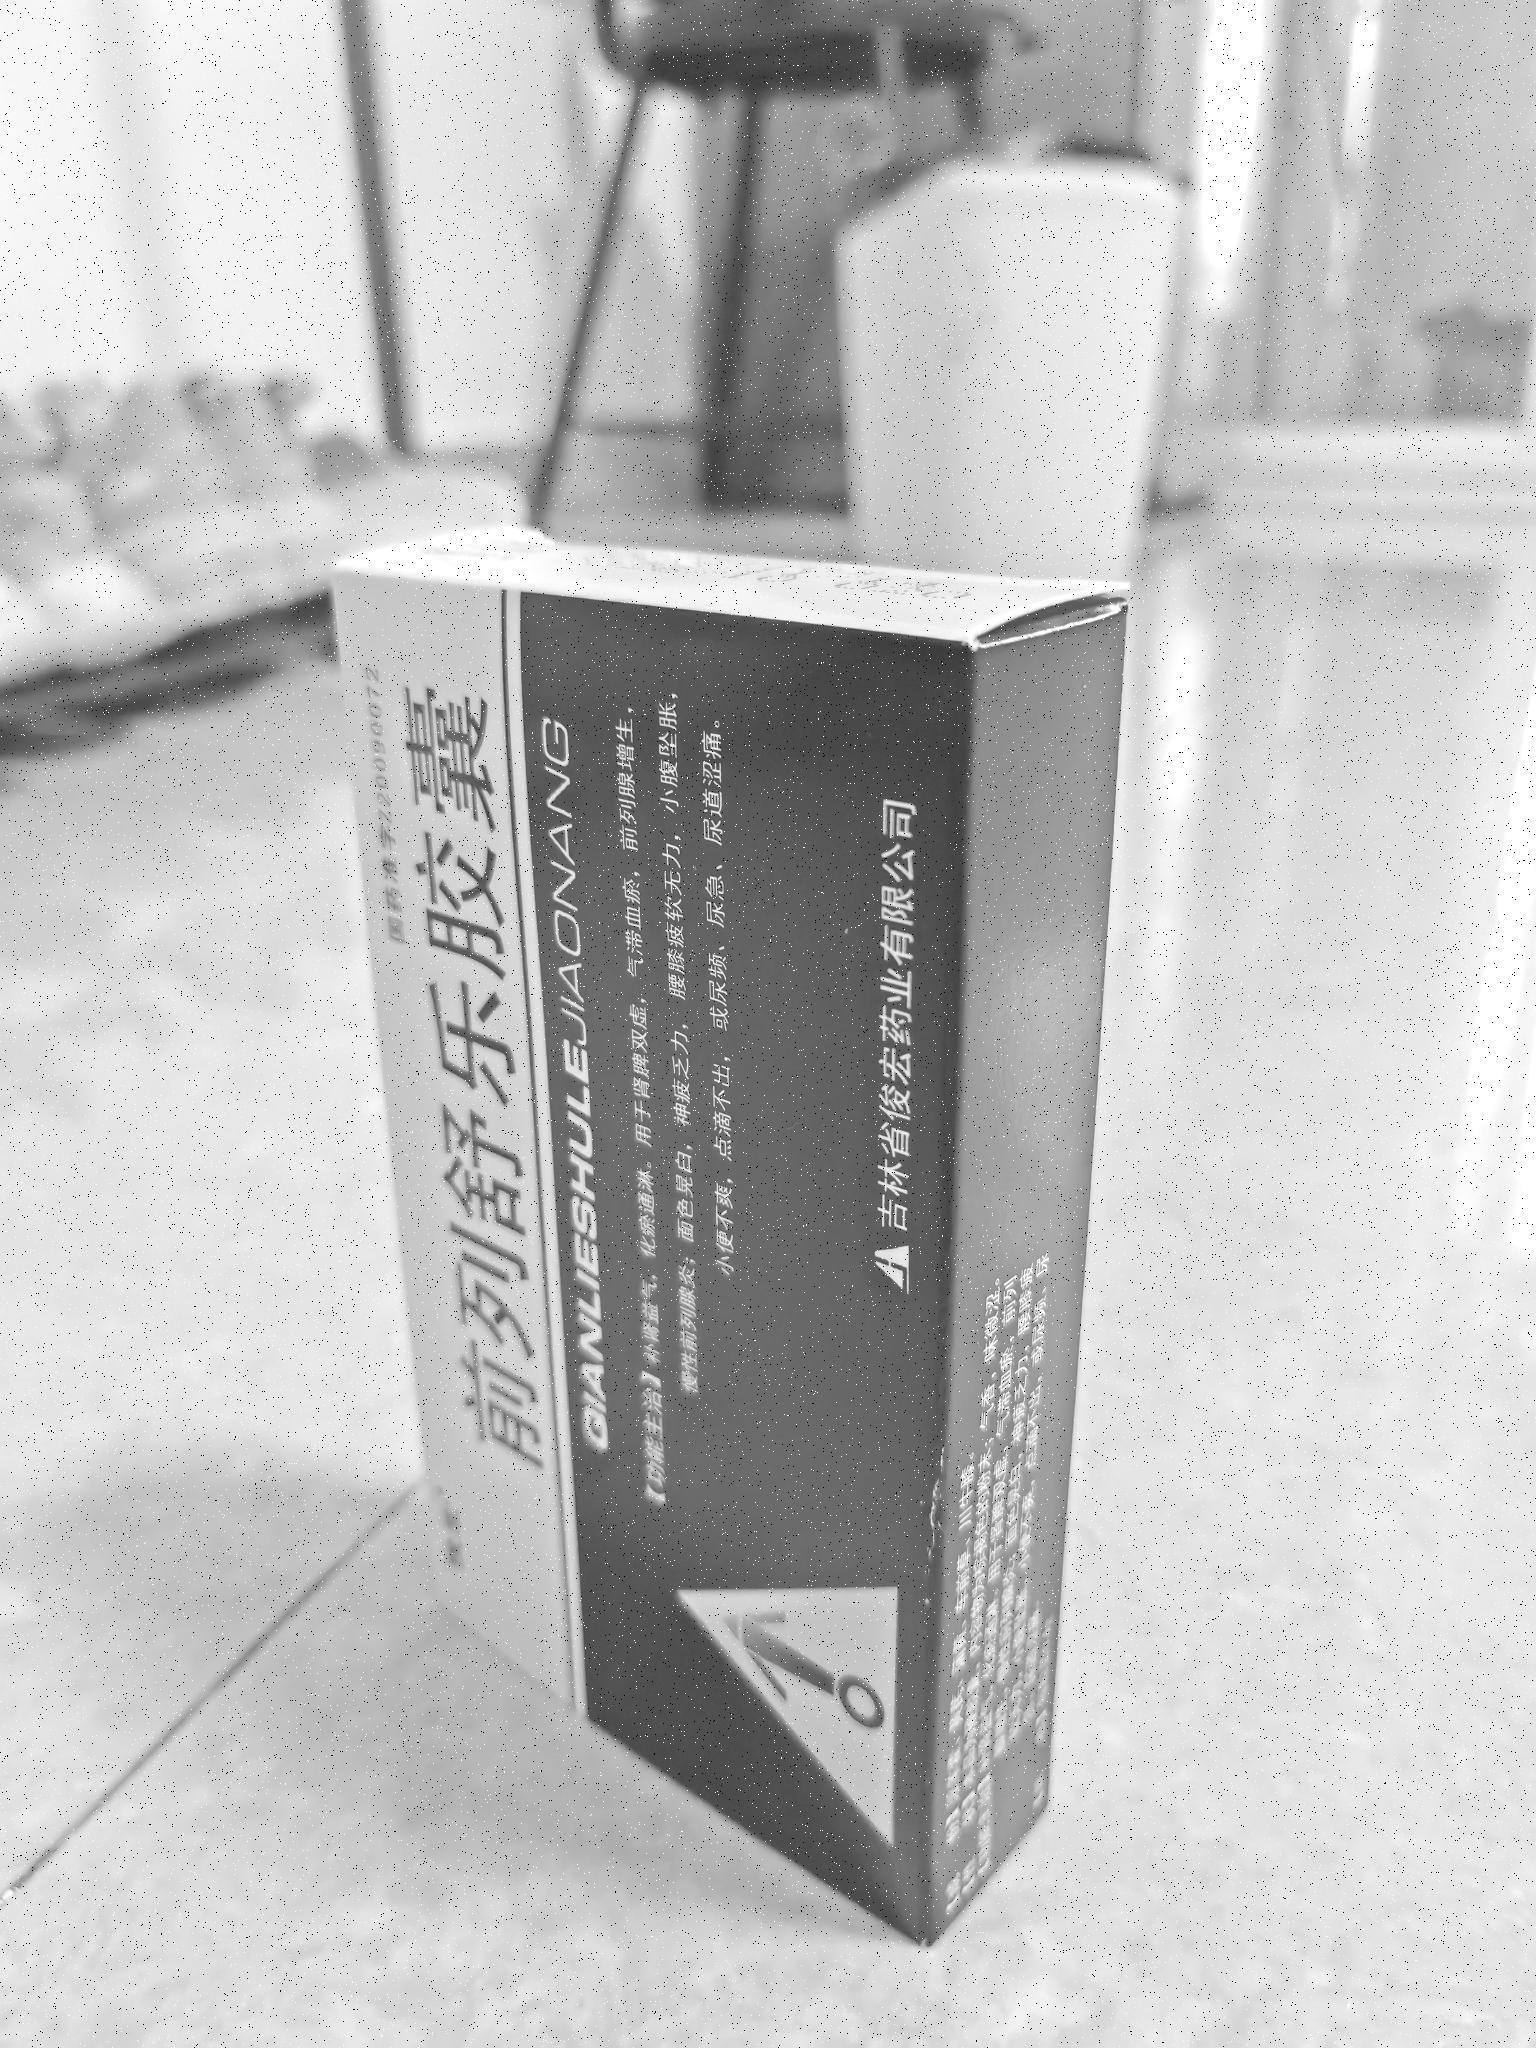Medicine2: (308, 508, 1155, 1971)
